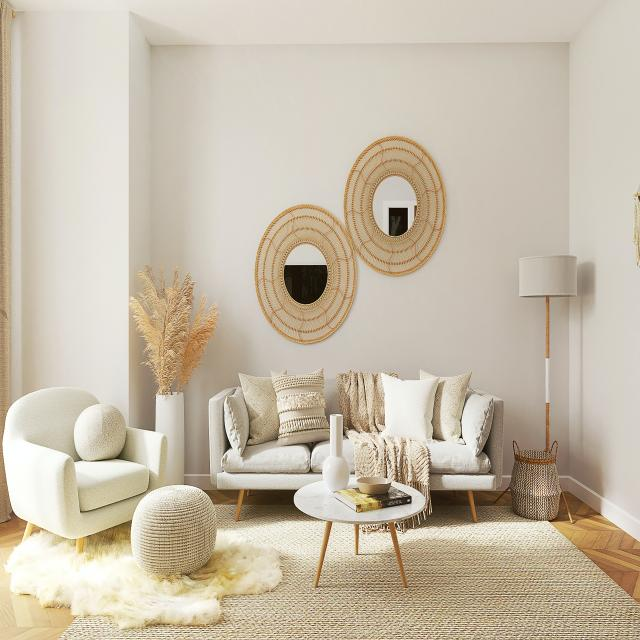floor: (0, 488, 640, 640), (247, 554, 298, 596)
